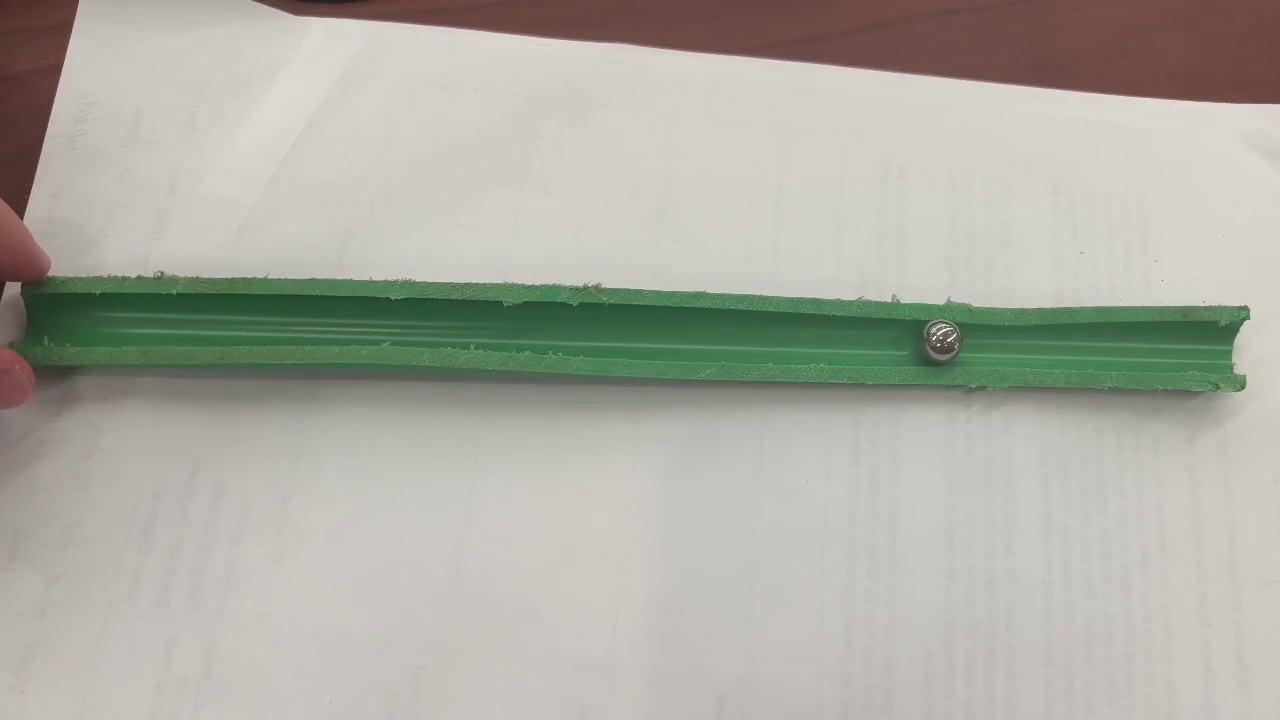ball: (925, 320, 960, 361)
